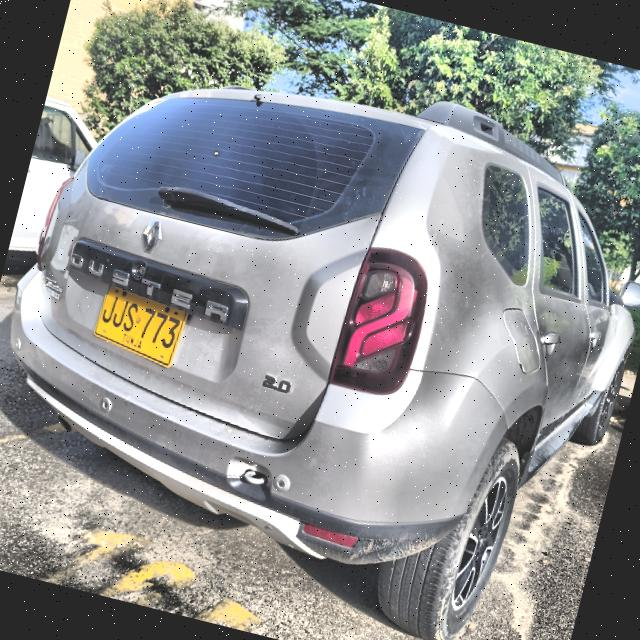plate: (94, 285, 186, 366)
